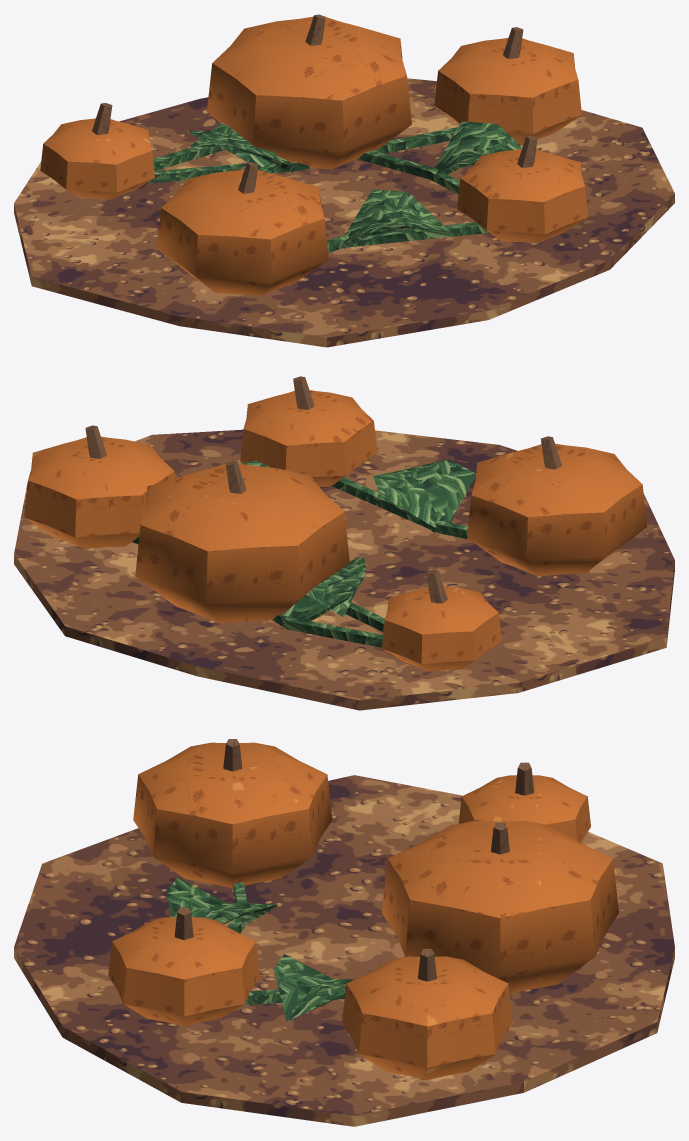
The model's file is pumpkin_patch.glb.
The picture shows the model from 3 angles, top to bottom: view 1: azimuth 30°, elevation 25°; view 2: azimuth 150°, elevation 25°; view 3: azimuth 270°, elevation 25°; orthographic projection. The views are drawn at different scales.
Parts seen in each view (by area): view 1: Pumpkins; view 2: Pumpkins; view 3: Pumpkins.
Boxes of the visible parts, x1,y1,x2,y2 form: Pumpkins: (14,14,674,347); Pumpkins: (14,376,674,710); Pumpkins: (14,739,674,1126).
Bounding box in the file's own units: 3.31 × 0.7159 × 2.72.
4 materials, 4 textured.
